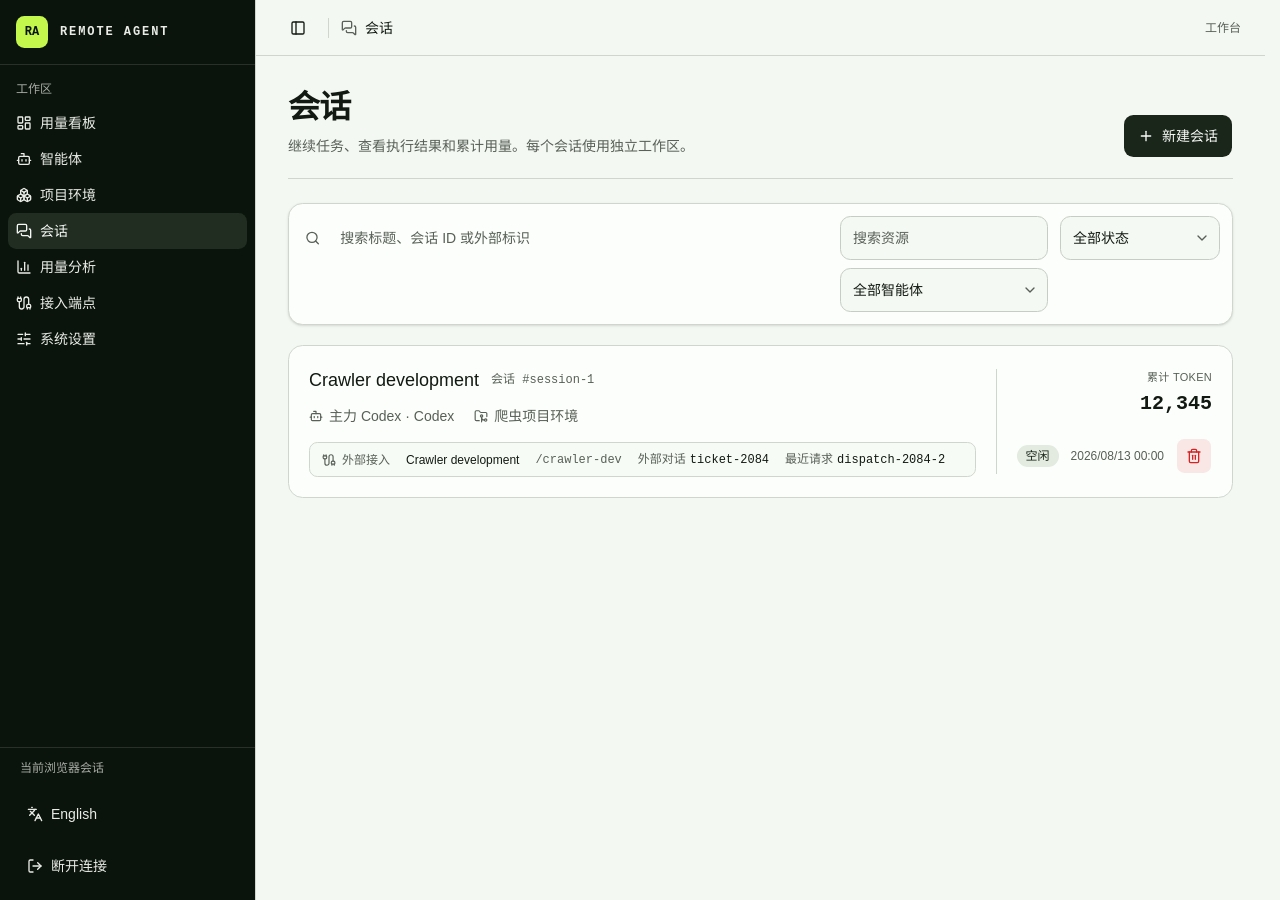
Test: 会话列表支持按智能体和状态筛选
Expected: the link "Crawler development" next to "会话 #session-1" is shown, [309,370,479,390]
Select "主力 Codex" in the dropdown named "按智能体筛选" at x=944, y=290, box [840,268,1048,312]
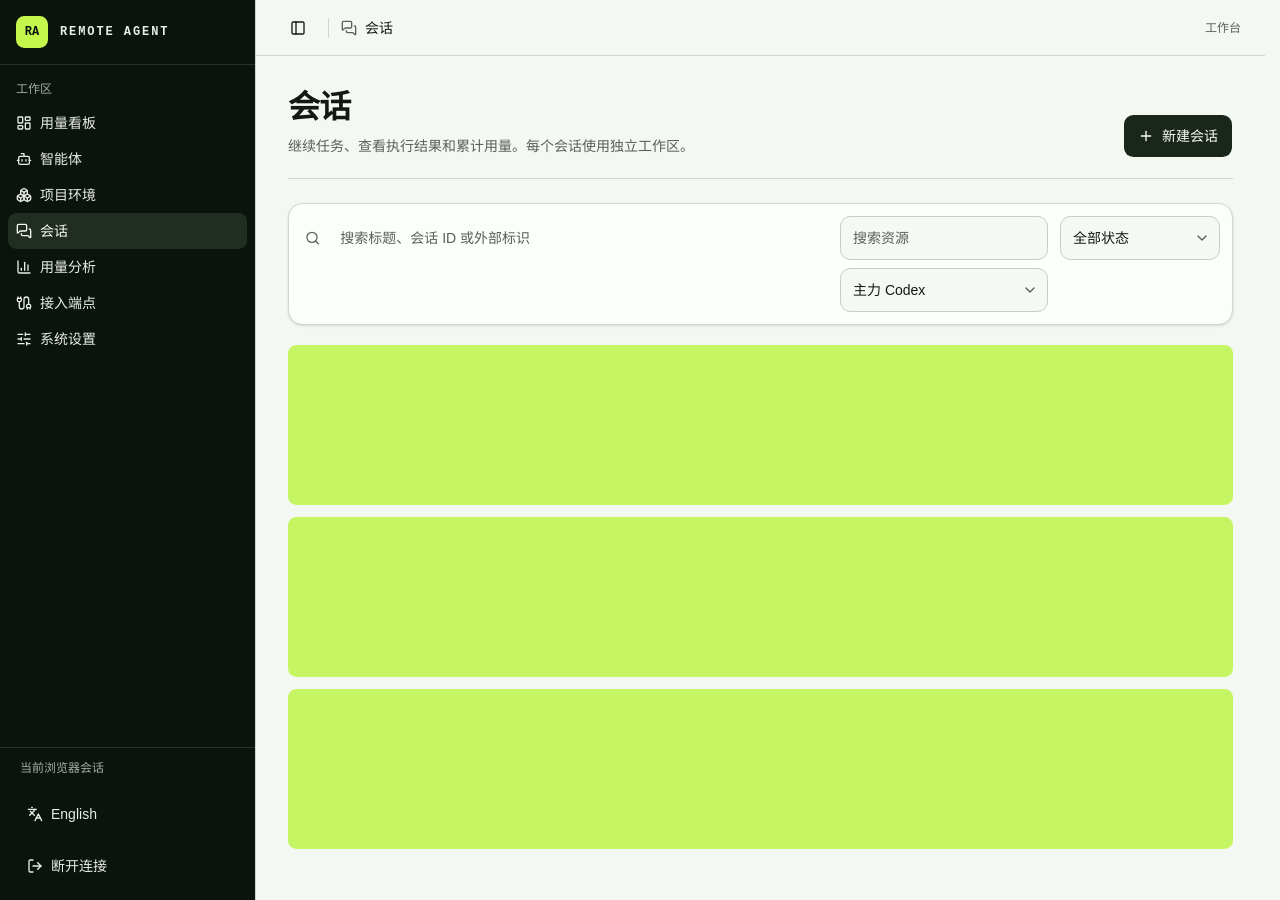
Select "运行中" in the dropdown named "按会话状态筛选" at x=1140, y=238, box [1060,216,1220,260]
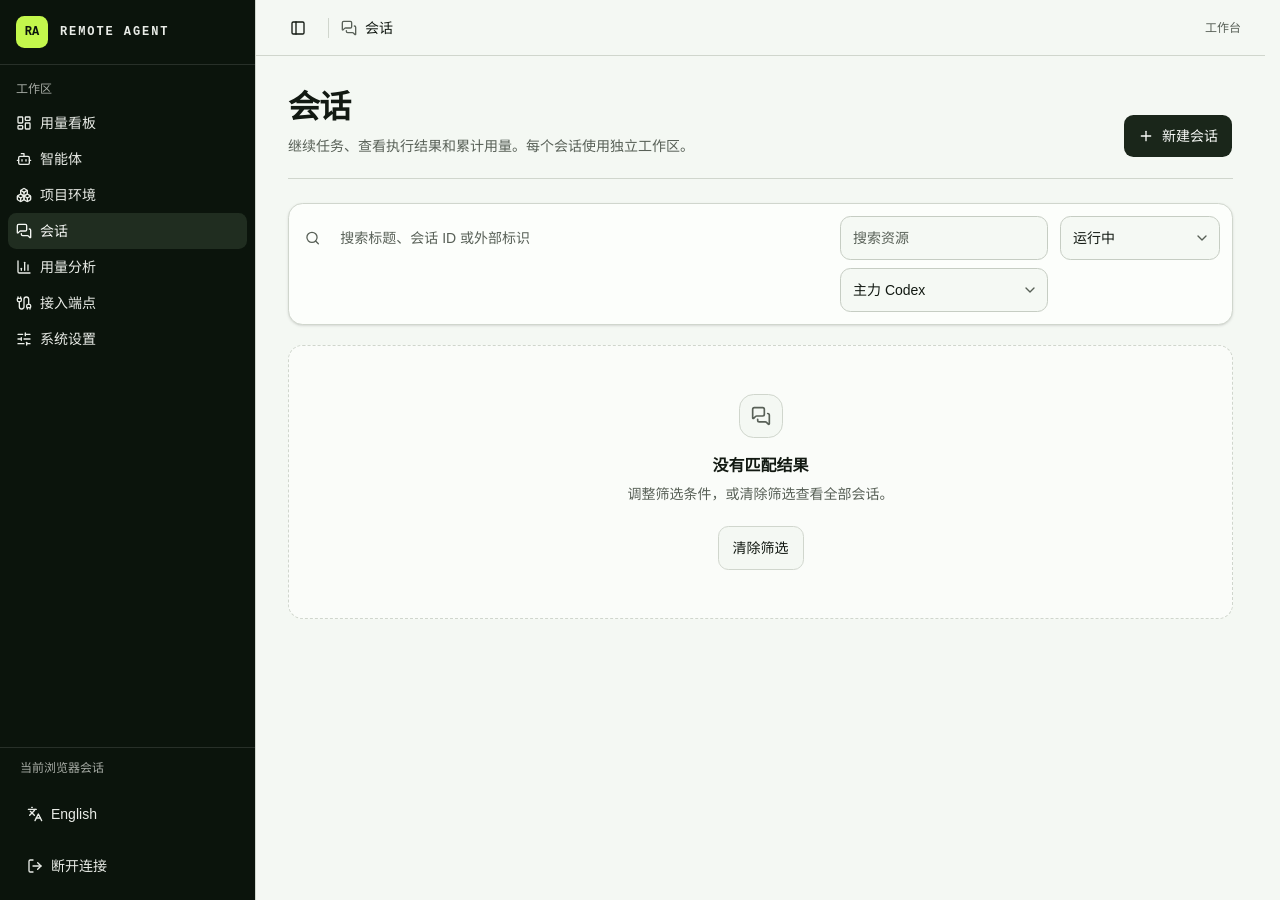
Expected: the heading "没有匹配结果" is shown, [712,454,808,478]
